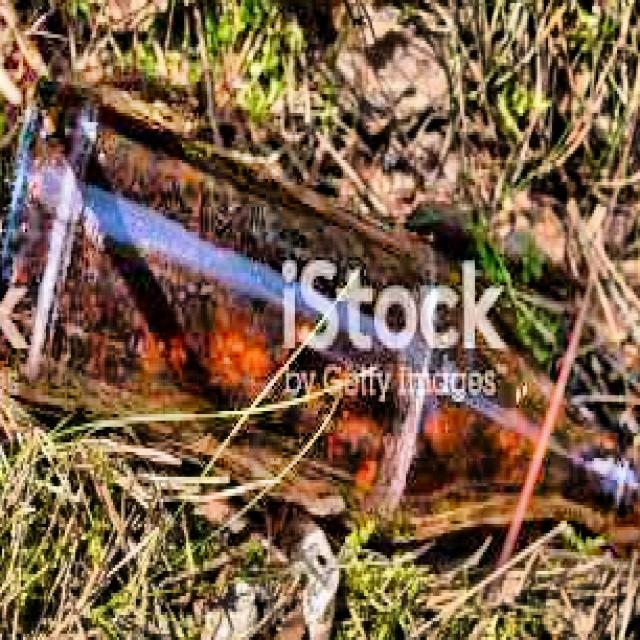glass: (0, 82, 640, 563)
